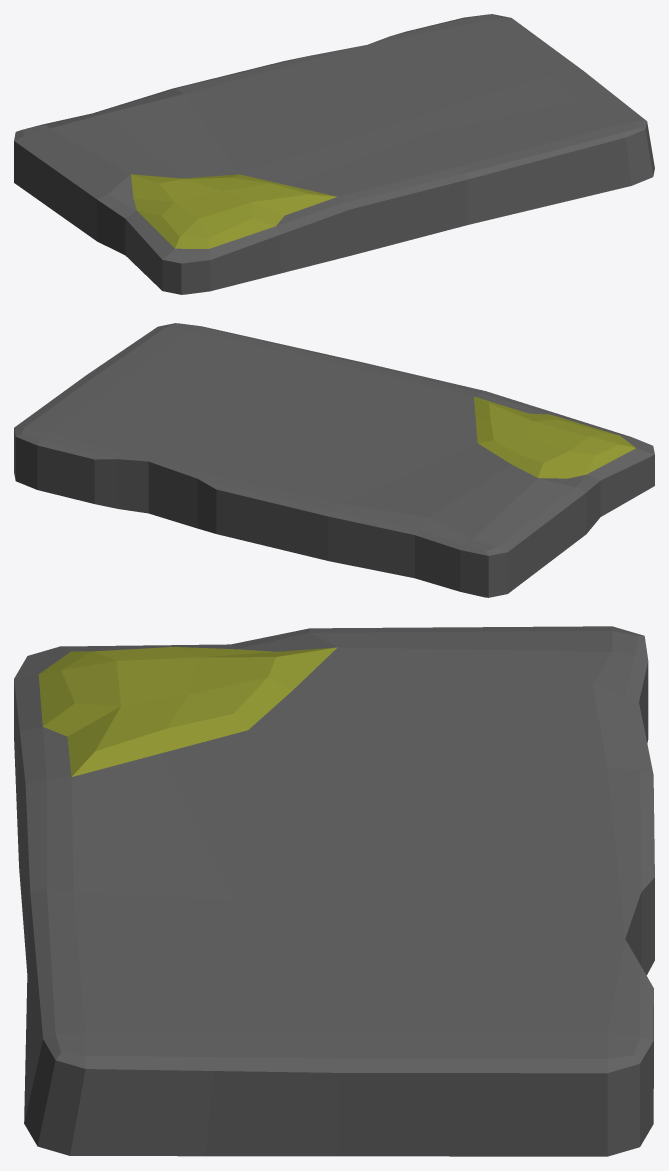
File: tile_moss_type_4_LOD0.fbx
The picture shows the model from 3 angles, top to bottom: view 1: azimuth 30°, elevation 25°; view 2: azimuth 150°, elevation 25°; view 3: azimuth 270°, elevation 25°; orthographic projection. The views are drawn at different scales.
Parts seen in each view (by area): view 1: tile_moss_type_4; view 2: tile_moss_type_4; view 3: tile_moss_type_4.
Boxes of the visible parts, x1,y1,x2,y2 form: tile_moss_type_4: [14, 14, 654, 294]; tile_moss_type_4: [14, 323, 654, 597]; tile_moss_type_4: [14, 626, 654, 1156].
Bounding box in the file's own units: 199 × 22.04 × 119.
